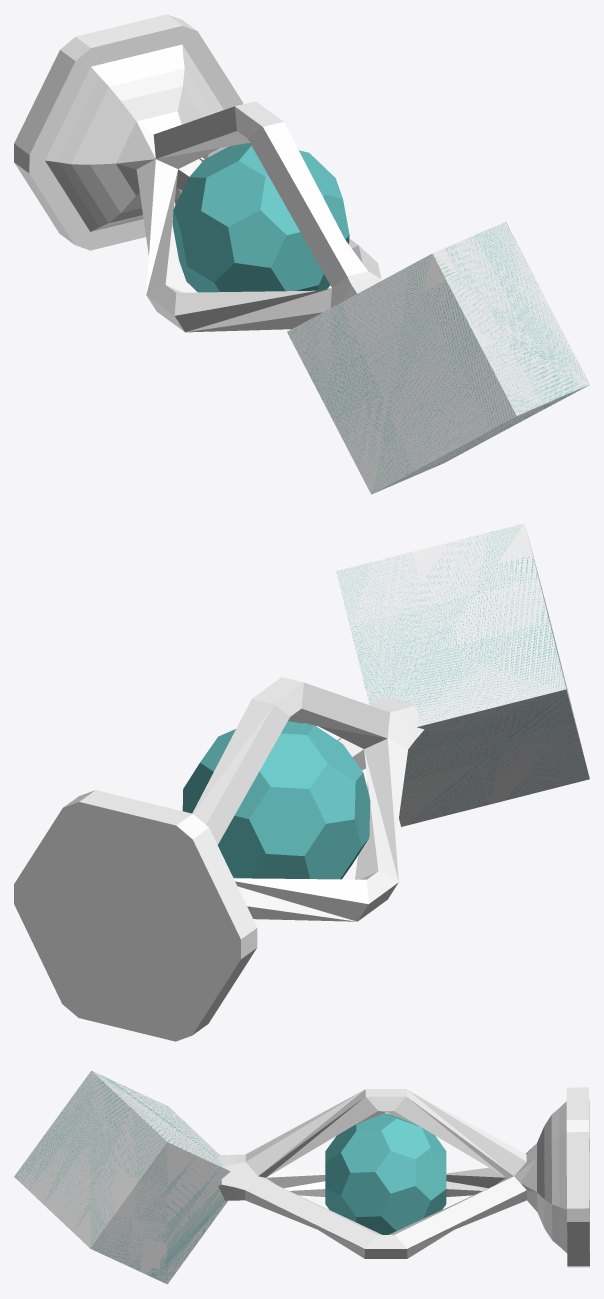
3 renders of one model, top to bottom at view 1: azimuth 30°, elevation 25°; view 2: azimuth 150°, elevation 25°; view 3: azimuth 270°, elevation 25°, orthographic. The views are drawn at different scales.
Visible parts, largest first — view 1: sketchup d challenge trophy; view 2: sketchup d challenge trophy; view 3: sketchup d challenge trophy.
Part boxes in pixels (x1,y1,x2,y2): sketchup d challenge trophy: (14,14,589,494); sketchup d challenge trophy: (14,523,589,1041); sketchup d challenge trophy: (14,1070,589,1284).
Bounding box in the file's own units: 5.12 × 5.18 × 14.13.
